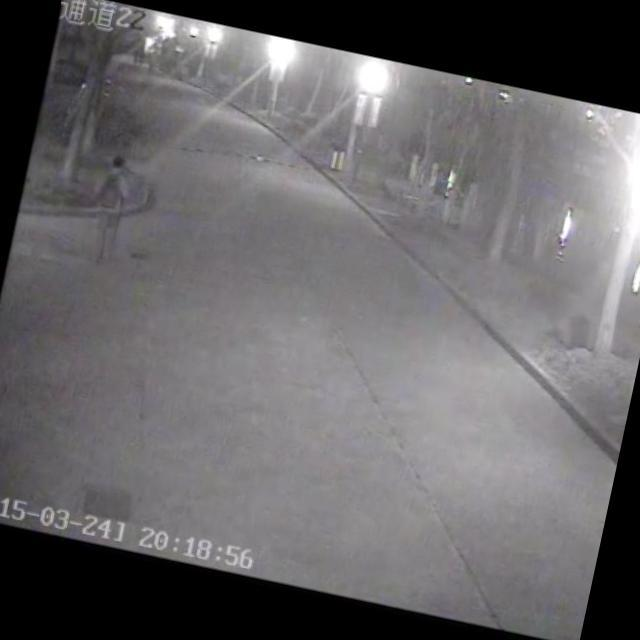person: (67, 137, 150, 282)
